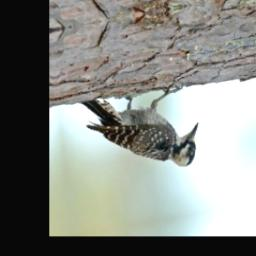Woodpecker: (77, 71, 204, 186)
